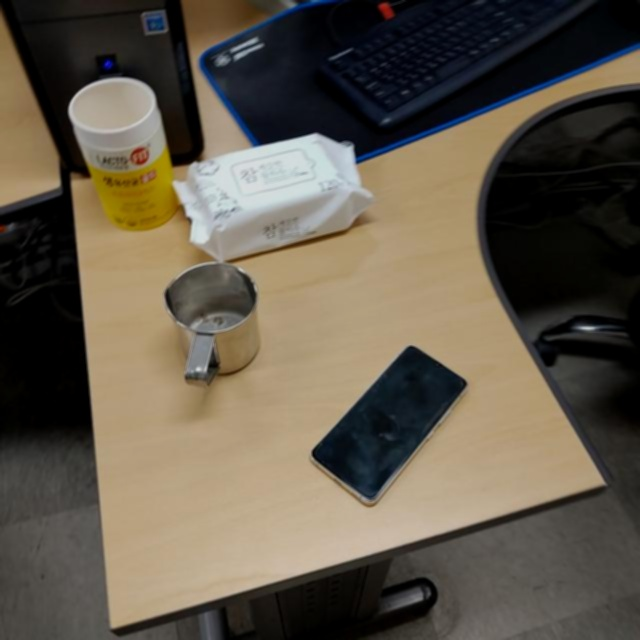cup: (162, 259, 262, 389)
phone: (308, 344, 468, 511)
